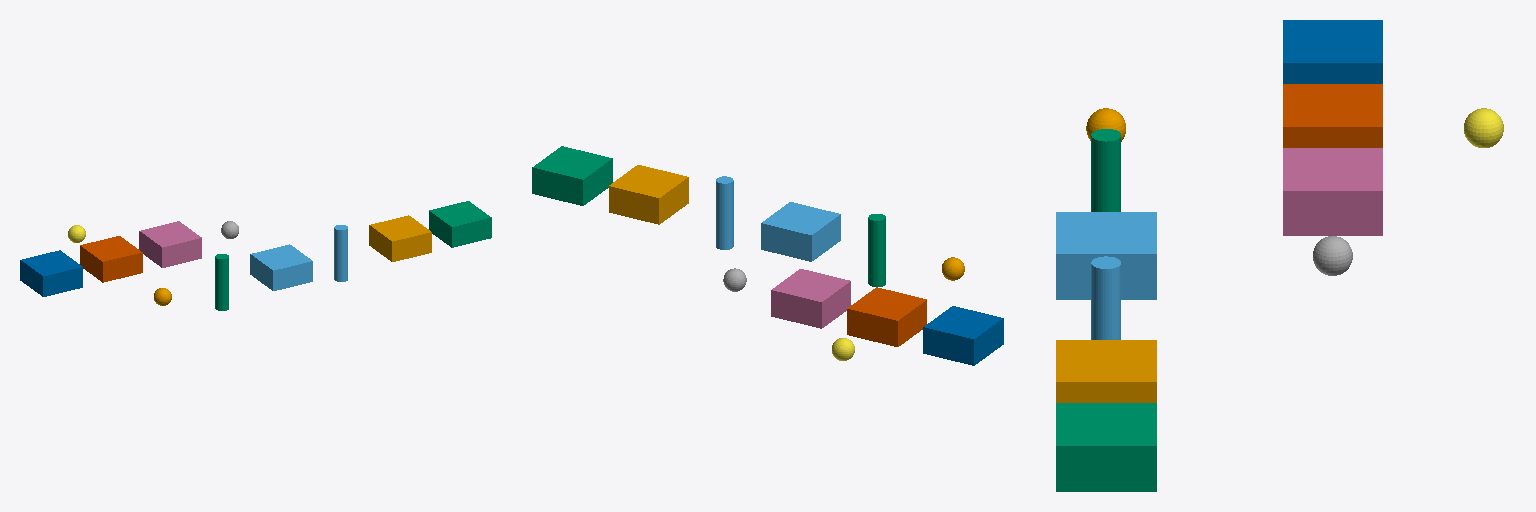
URDF robot description (fixed_displacement_rotary_pump_with_flow_control_valve_and_epicy):
<?xml version="1.0" ?>
<robot name="fixed_displacement_rotary_pump_with_flow_control_valve_and_epicyclic_gear_train">
  <link name="epicyclic_gear_train">
    <visual>
      <geometry>
        <sphere radius="0.008"/>
      </geometry>
    </visual>
  </link>
  <link name="first_gear">
    <visual>
      <geometry>
        <box size="0.04 0.04 0.02"/>
      </geometry>
    </visual>
  </link>
  <link name="first_shaft">
    <visual>
      <geometry>
        <cylinder radius="0.006" length="0.05"/>
      </geometry>
    </visual>
  </link>
  <link name="flow_control_valve">
    <visual>
      <geometry>
        <sphere radius="0.008"/>
      </geometry>
    </visual>
  </link>
  <link name="housing">
    <visual>
      <geometry>
        <box size="0.04 0.04 0.02"/>
      </geometry>
    </visual>
  </link>
  <link name="inlet_port">
    <visual>
      <geometry>
        <box size="0.04 0.04 0.02"/>
      </geometry>
    </visual>
  </link>
  <link name="outlet_port">
    <visual>
      <geometry>
        <box size="0.04 0.04 0.02"/>
      </geometry>
    </visual>
  </link>
  <link name="pumping_unit">
    <visual>
      <geometry>
        <sphere radius="0.008"/>
      </geometry>
    </visual>
  </link>
  <link name="second_gear">
    <visual>
      <geometry>
        <box size="0.04 0.04 0.02"/>
      </geometry>
    </visual>
  </link>
  <link name="second_shaft">
    <visual>
      <geometry>
        <cylinder radius="0.006" length="0.05"/>
      </geometry>
    </visual>
  </link>
  <link name="third_gear">
    <visual>
      <geometry>
        <box size="0.04 0.04 0.02"/>
      </geometry>
    </visual>
  </link>
  <joint name="_attach_housing_to_epicyclic_gear_train" type="fixed">
    <parent link="housing"/>
    <child link="epicyclic_gear_train"/>
    <origin xyz="0.0600 -0.0900 0.0000" rpy="0 0 0"/>
  </joint>
  <joint name="_attach_housing_to_first_gear" type="fixed">
    <parent link="housing"/>
    <child link="first_gear"/>
    <origin xyz="0.1800 -0.0900 0.0000" rpy="0 0 0"/>
  </joint>
  <joint name="_attach_housing_to_first_shaft" type="fixed">
    <parent link="housing"/>
    <child link="first_shaft"/>
    <origin xyz="0.1200 -0.0900 0.0000" rpy="0 0 0"/>
  </joint>
  <joint name="_attach_housing_to_flow_control_valve" type="fixed">
    <parent link="housing"/>
    <child link="flow_control_valve"/>
    <origin xyz="0.0600 0.0600 0.0000" rpy="0 0 0"/>
  </joint>
  <joint name="_attach_housing_to_inlet_port" type="fixed">
    <parent link="housing"/>
    <child link="inlet_port"/>
    <origin xyz="0.0600 0.0000 0.0000" rpy="0 0 0"/>
  </joint>
  <joint name="_attach_housing_to_outlet_port" type="fixed">
    <parent link="housing"/>
    <child link="outlet_port"/>
    <origin xyz="0.1200 0.0000 0.0000" rpy="0 0 0"/>
  </joint>
  <joint name="_attach_housing_to_pumping_unit" type="fixed">
    <parent link="housing"/>
    <child link="pumping_unit"/>
    <origin xyz="0.1800 0.0000 0.0000" rpy="0 0 0"/>
  </joint>
  <joint name="_attach_housing_to_second_gear" type="fixed">
    <parent link="housing"/>
    <child link="second_gear"/>
    <origin xyz="0.3000 -0.0900 0.0000" rpy="0 0 0"/>
  </joint>
  <joint name="_attach_housing_to_second_shaft" type="fixed">
    <parent link="housing"/>
    <child link="second_shaft"/>
    <origin xyz="0.2400 -0.0900 0.0000" rpy="0 0 0"/>
  </joint>
  <joint name="_attach_housing_to_third_gear" type="fixed">
    <parent link="housing"/>
    <child link="third_gear"/>
    <origin xyz="0.3600 -0.0900 0.0000" rpy="0 0 0"/>
  </joint>
</robot>

--- Facts derived from the render (not from the file) ---
The picture shows the robot from 3 angles, left to right: view 1: azimuth 30°, elevation 25°; view 2: azimuth 150°, elevation 25°; view 3: azimuth 270°, elevation 25°; orthographic projection.
Robot: fixed_displacement_rotary_pump_with_flow_control_valve_and_epicy — 11 links, 10 joints (10 fixed); root link housing; default pose: every joint at zero.
Visible links, largest first — view 1: housing, first_gear, second_gear, third_gear, inlet_port, outlet_port, first_shaft, second_shaft; view 2: housing, third_gear, first_gear, second_gear, inlet_port, outlet_port, second_shaft, first_shaft; view 3: third_gear, outlet_port, first_gear, housing, inlet_port, second_gear, second_shaft, first_shaft, pumping_unit, flow_control_valve, epicyclic_gear_train.
Boxes of the visible links, bbox=[...] form: housing: bbox=[20, 250, 82, 296]; first_gear: bbox=[250, 244, 312, 290]; second_gear: bbox=[369, 215, 431, 261]; third_gear: bbox=[429, 201, 491, 247]; inlet_port: bbox=[80, 236, 142, 282]; outlet_port: bbox=[139, 221, 201, 267]; first_shaft: bbox=[215, 254, 228, 310]; second_shaft: bbox=[334, 225, 347, 281]; housing: bbox=[923, 306, 1003, 365]; third_gear: bbox=[532, 146, 612, 205]; first_gear: bbox=[761, 202, 840, 261]; second_gear: bbox=[609, 165, 688, 224]; inlet_port: bbox=[847, 287, 926, 346]; outlet_port: bbox=[771, 269, 850, 328]; second_shaft: bbox=[716, 176, 733, 249]; first_shaft: bbox=[868, 214, 885, 286]; third_gear: bbox=[1056, 403, 1156, 491]; outlet_port: bbox=[1283, 148, 1382, 235]; first_gear: bbox=[1056, 212, 1156, 299]; housing: bbox=[1283, 20, 1382, 83]; inlet_port: bbox=[1283, 84, 1382, 147]; second_gear: bbox=[1056, 340, 1156, 402]; second_shaft: bbox=[1091, 256, 1120, 339]; first_shaft: bbox=[1091, 129, 1120, 211]; pumping_unit: bbox=[1313, 236, 1352, 275]; flow_control_valve: bbox=[1464, 108, 1503, 147]; epicyclic_gear_train: bbox=[1086, 108, 1125, 141].
Bounding box of the posed robot: 0.4 × 0.178 × 0.05 m (x, y, z).
Geometry: primitives only (box / cylinder / sphere), no mesh files.
